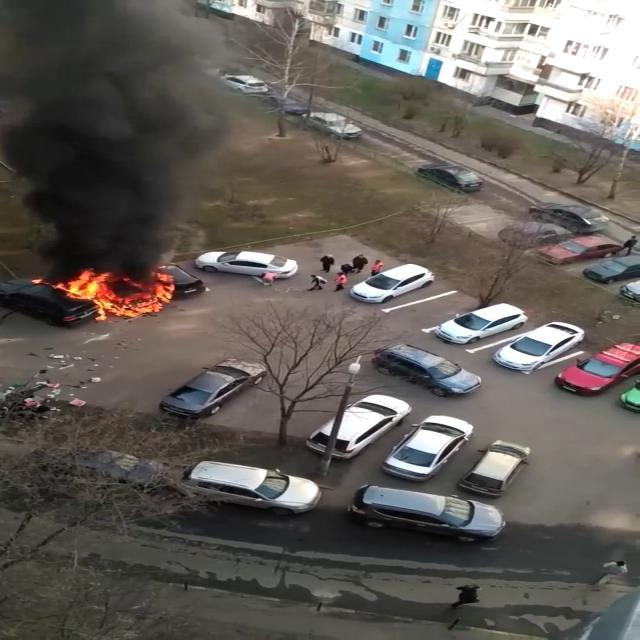Fire: (52, 265, 178, 319)
Smoke: (0, 0, 260, 261)
